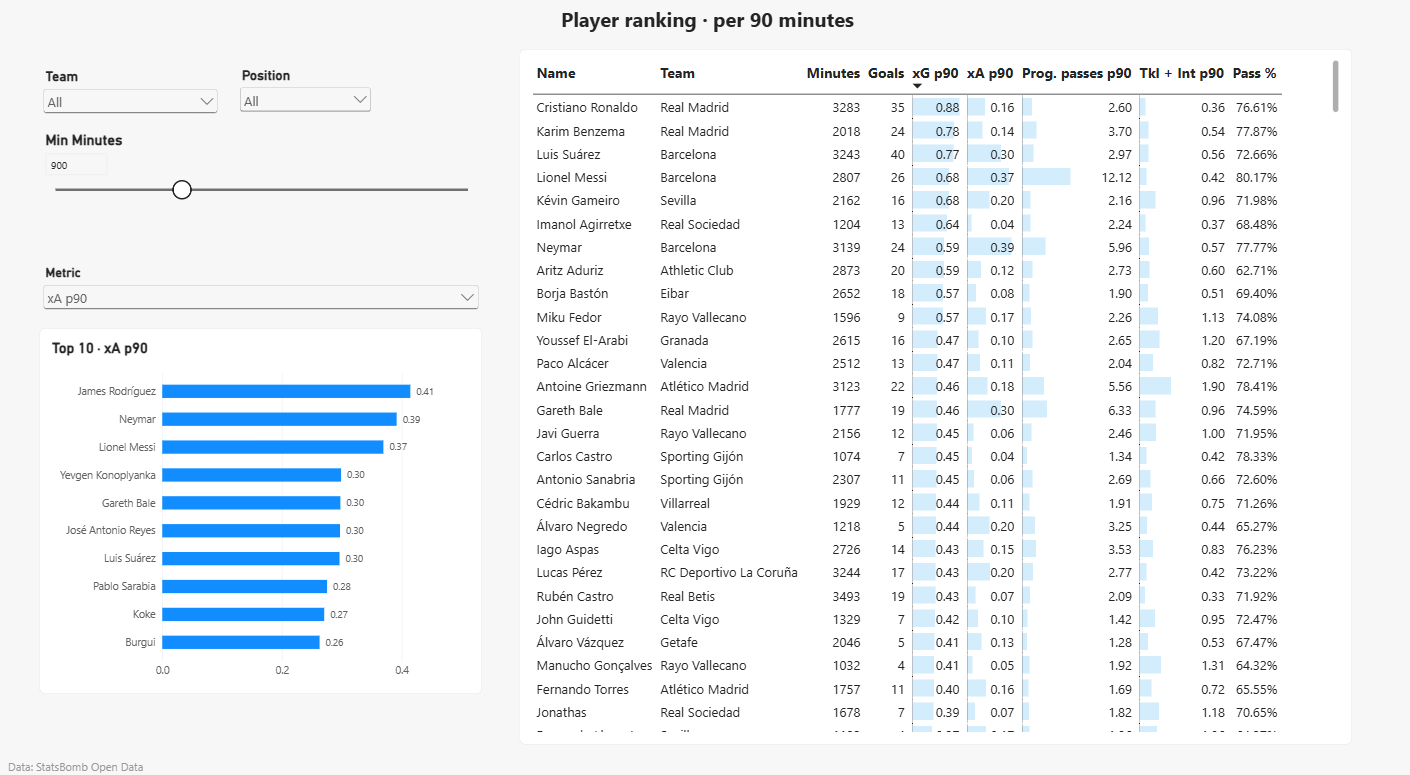

This screenshot's page, from the dashboard's own definition file:
{"tool":"powerbi","page":{"name":"Player Ranking","canvas":[1920,1080],"ordinal":1},"visuals":[{"type":"textbox","box":[27.5,42.5,1865,57.5],"z":0},{"type":"slicer","fields":{"Values":["dim_player.position_group"]},"box":[332.5,124.2,185,75],"z":1000},{"type":"slicer","fields":{"Values":["dim_player.main_team"]},"box":[70,125,242.5,75],"z":2000},{"type":"slicer","fields":{"Values":["Min Minutes.Min Minutes"]},"box":[70,210,590,147.5],"z":3000},{"type":"tableEx","fields":{"Values":["dim_player.player_name","dim_player.main_team","metrics.Minutes","metrics.Goals","metrics.xG p90","metrics.xA p90","metrics.Progressive Passes p90","metrics.Tackles and Interceptions p90","metrics.Pass Completion %"]},"box":[710,100,1110,927.5],"z":4000},{"type":"textbox","box":[27.5,1045,300,35],"z":5000},{"type":"slicer","fields":{"Values":["Parameter.Parameter"]},"box":[70,387.5,590,75],"z":6000},{"type":"clusteredBarChart","fields":{"Category":["dim_player.player_name"],"Y":["metrics.Selected Metric Value"]},"box":[70,472.5,590,488],"z":7000}]}

Visuals, with their boxes in screenshot pixels (x1, y1, x2, y2), scaled from the page's 1920x1080 canvas onto the 1410x775 screenshot:
textbox: crop(20, 30, 1390, 72)
slicer - dim_player.position_group: crop(244, 89, 380, 143)
slicer - dim_player.main_team: crop(51, 90, 229, 144)
slicer - Min Minutes.Min Minutes: crop(51, 151, 485, 257)
tableEx - dim_player.player_name x dim_player.main_team: crop(521, 72, 1337, 737)
textbox: crop(20, 750, 241, 774)
slicer - Parameter.Parameter: crop(51, 278, 485, 332)
clusteredBarChart - dim_player.player_name x metrics.Selected Metric Value: crop(51, 339, 485, 689)
